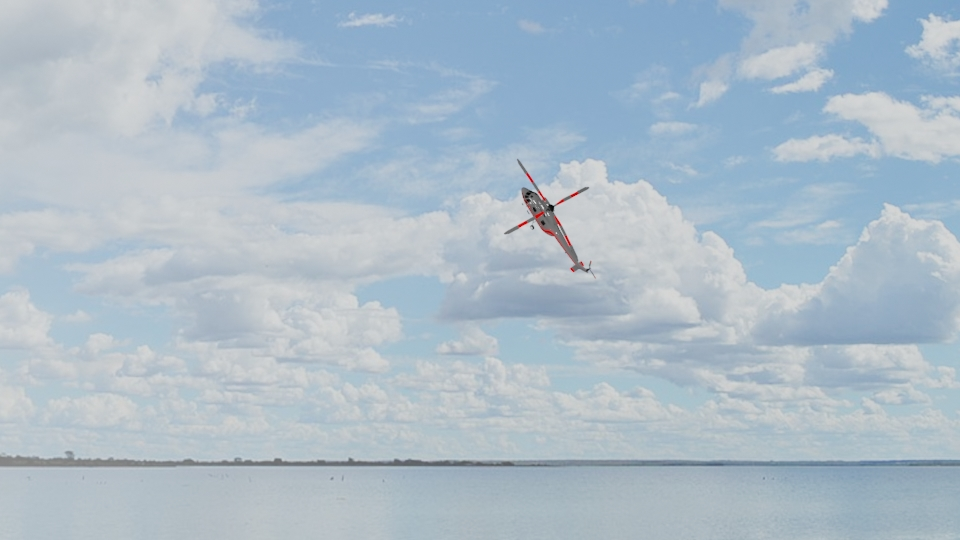heli: (500, 157, 597, 275)
